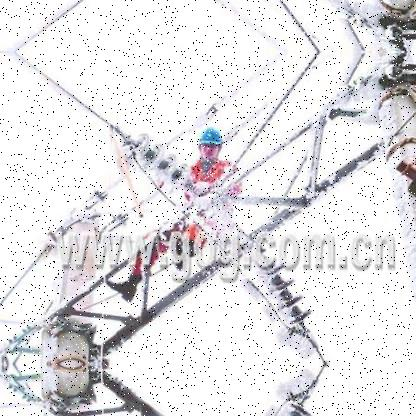Helmet: (190, 125, 230, 164)
